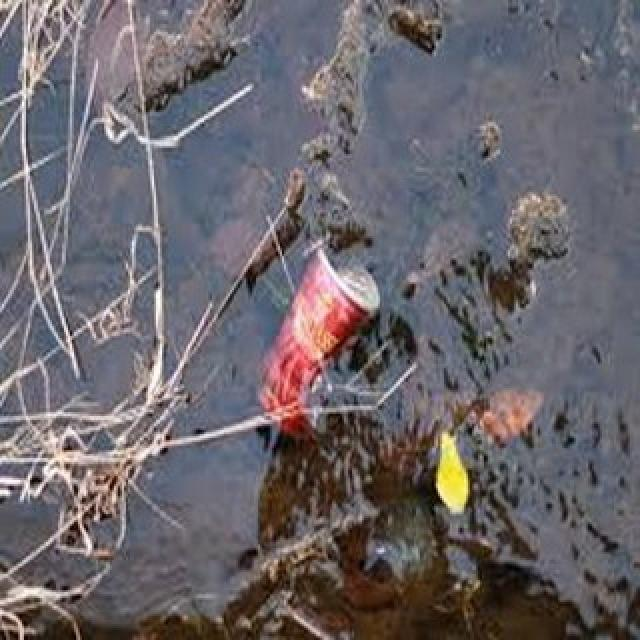can: (246, 239, 382, 429)
